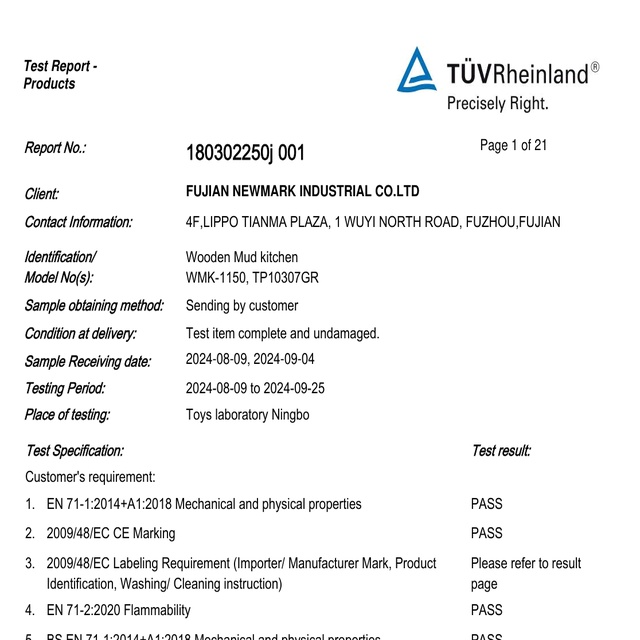tuv_rheinland: (397, 44, 602, 97)
